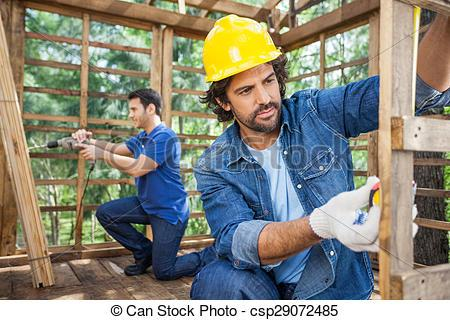helmet: (203, 15, 281, 82)
